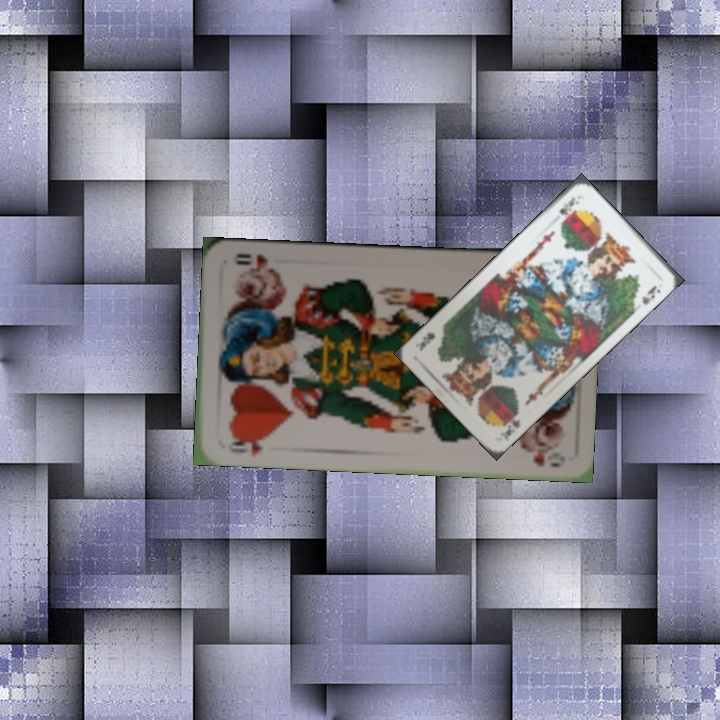HO: (223, 431, 272, 459)
SK: (499, 407, 523, 439), (555, 193, 582, 218)
